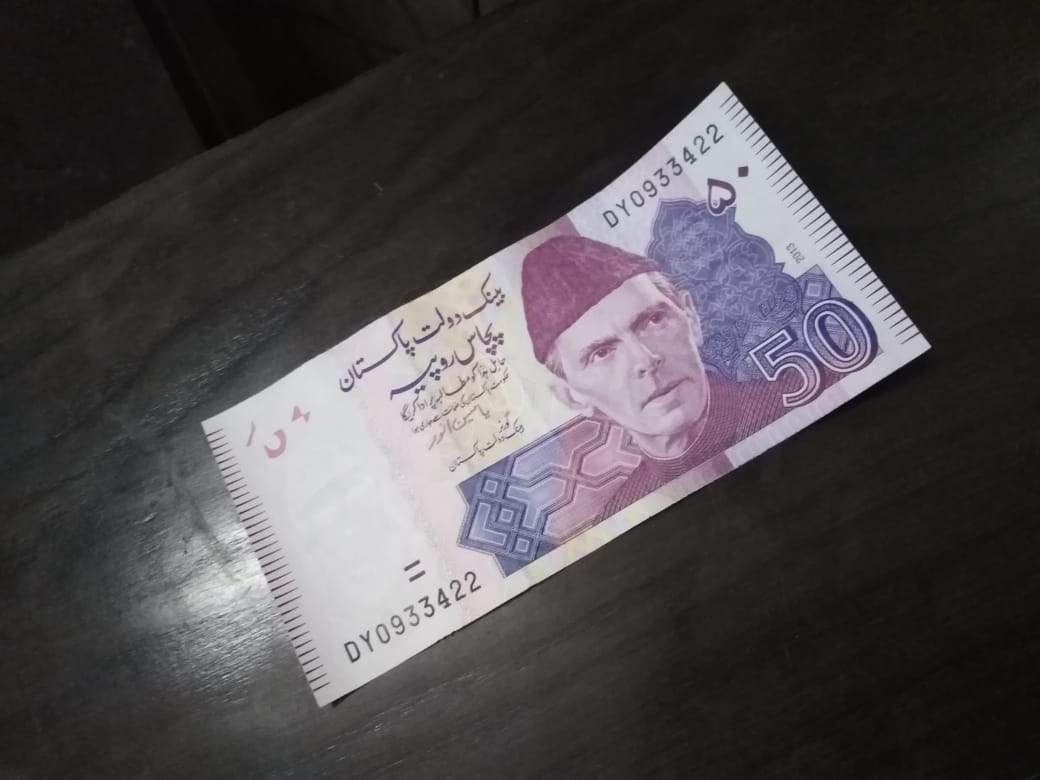50 rupee: (200, 78, 920, 714)
